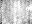person: (26, 7, 31, 13)
